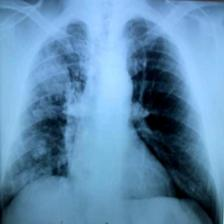tuberculosis: (5, 13, 220, 224)
